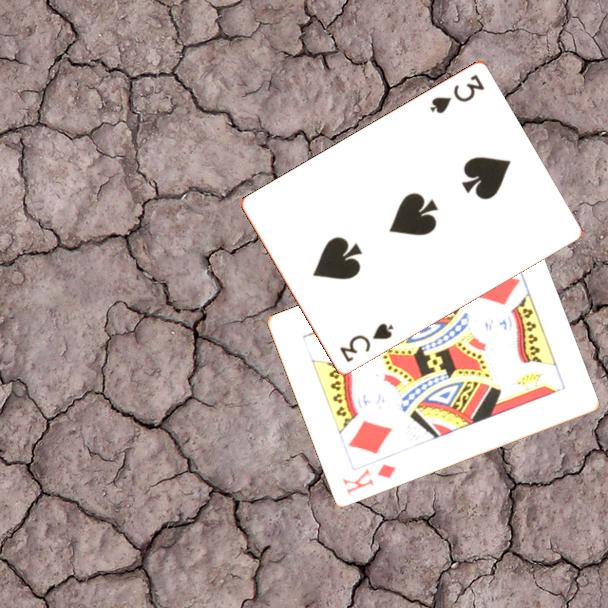d13: (338, 461, 399, 498)
s03: (426, 71, 488, 117), (336, 320, 396, 365)
